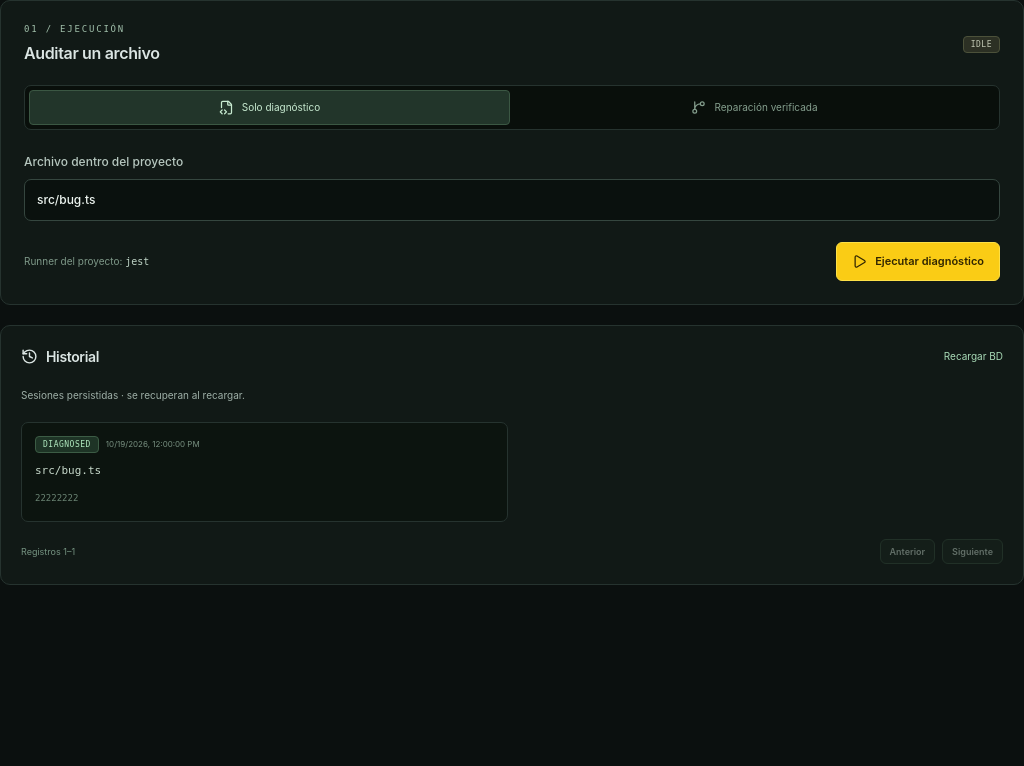
Test: dashboard views › restores audit details after unmount/reload from the durable API
Step 1. Click the button "DIAGNOSED 10/19/2026, 12:00:00 PM src/bug.ts 22222222" → (67, 445), box [21,422,508,522]
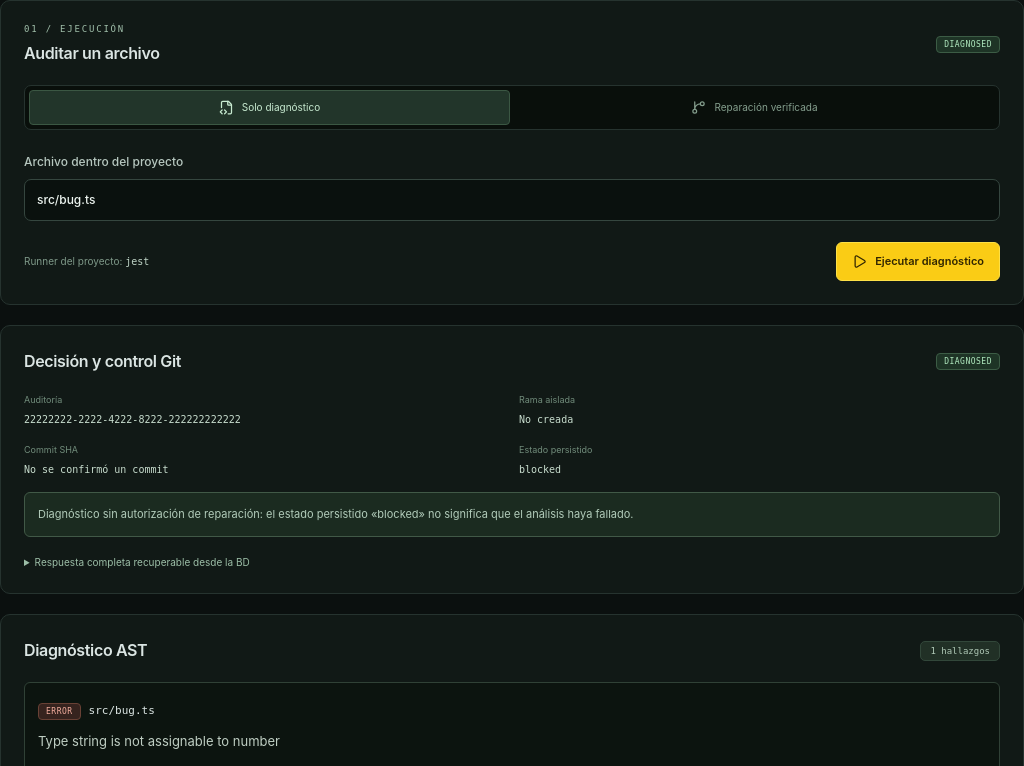
Check: the text "Type string is not assignable to number" is shown, box [38,733,280,749]
